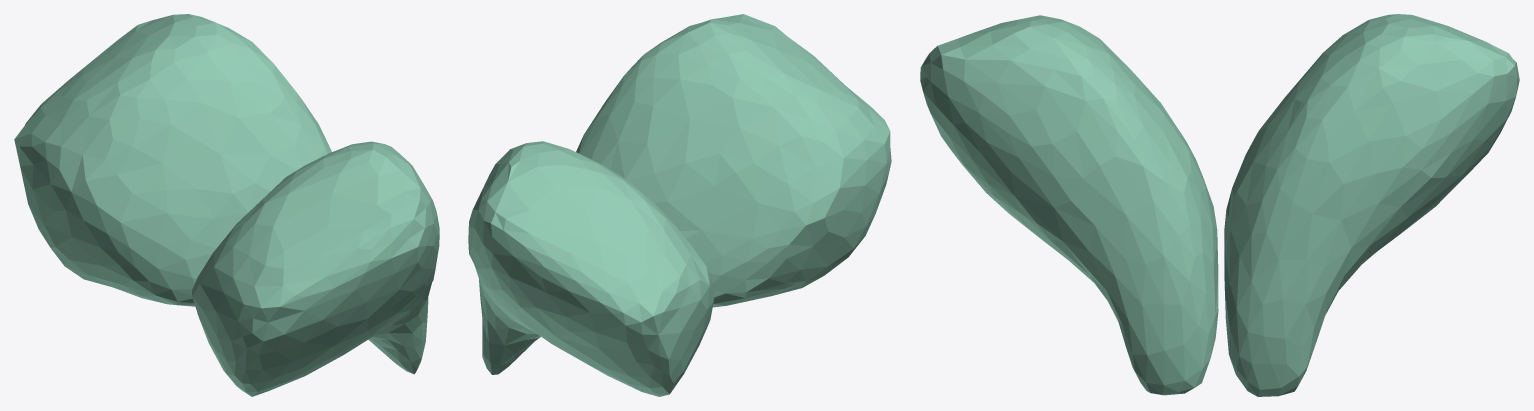
3 renders of one model, left to right at view 1: azimuth 30°, elevation 25°; view 2: azimuth 150°, elevation 25°; view 3: azimuth 270°, elevation 25°, orthographic. The views are drawn at different scales.
Parts seen in each view (by area): view 1: 605.obj; view 2: 605.obj; view 3: 605.obj.
Boxes of the visible parts, x1=… form: 605.obj: x1=14, y1=14, x2=439, y2=396; 605.obj: x1=468, y1=14, x2=891, y2=396; 605.obj: x1=920, y1=14, x2=1519, y2=396.
Bounding box in the file's own units: 982 × 1034 × 1772.
